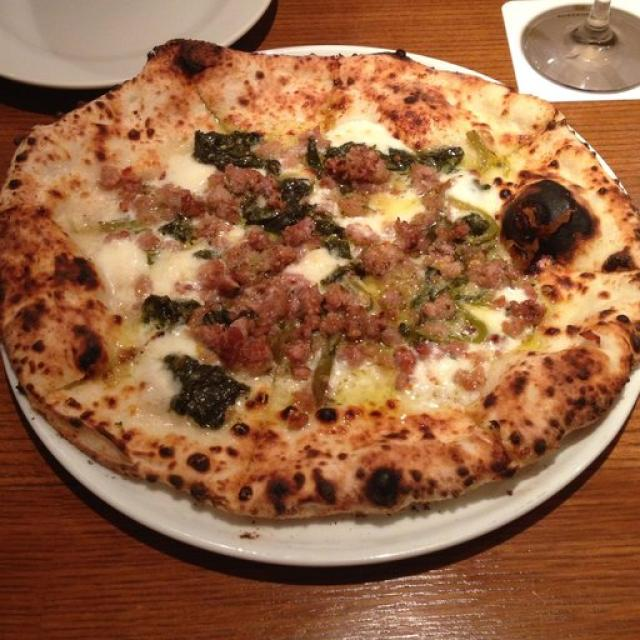Beef: (198, 299, 284, 368), (209, 226, 299, 286), (429, 217, 507, 286), (102, 164, 184, 228), (285, 292, 374, 349), (387, 285, 462, 348), (352, 213, 410, 286), (202, 160, 272, 220), (320, 142, 399, 186), (406, 153, 448, 220)
Cheese: (85, 242, 146, 306)
Pizza: (0, 40, 640, 519)
